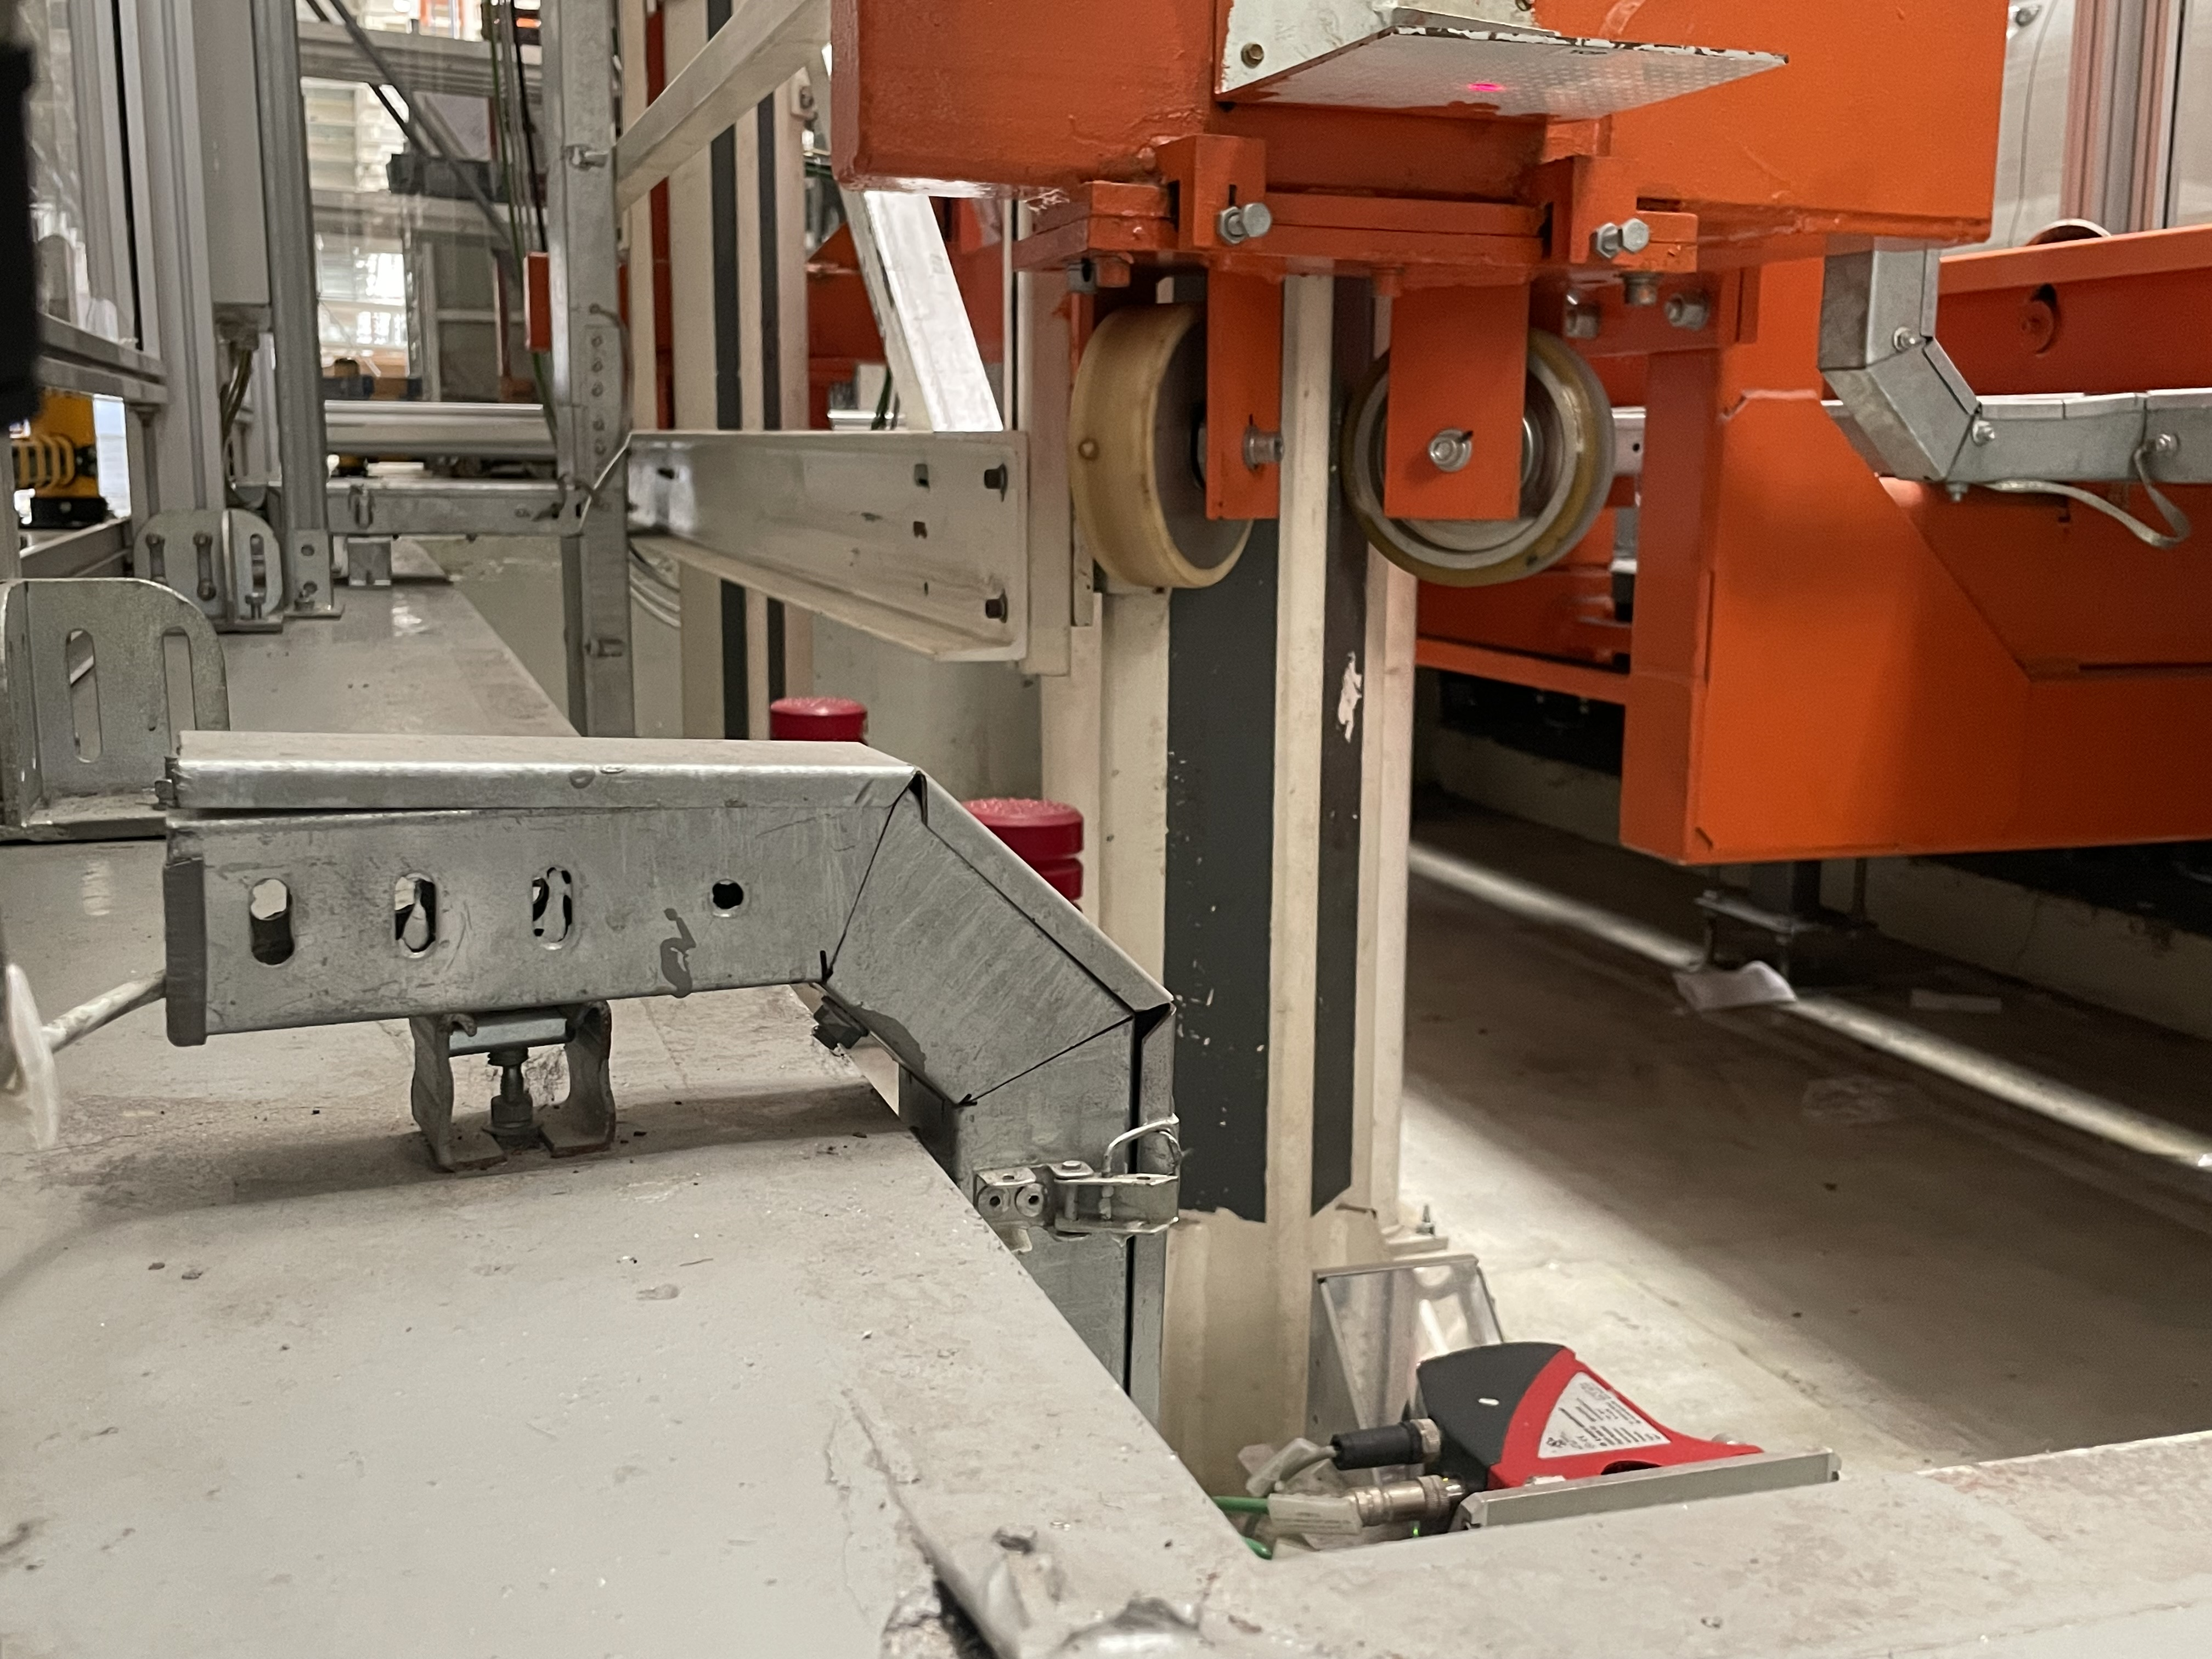bad_wheel: (1534, 368, 1627, 481)
good_wheel: (1040, 282, 1280, 617)
